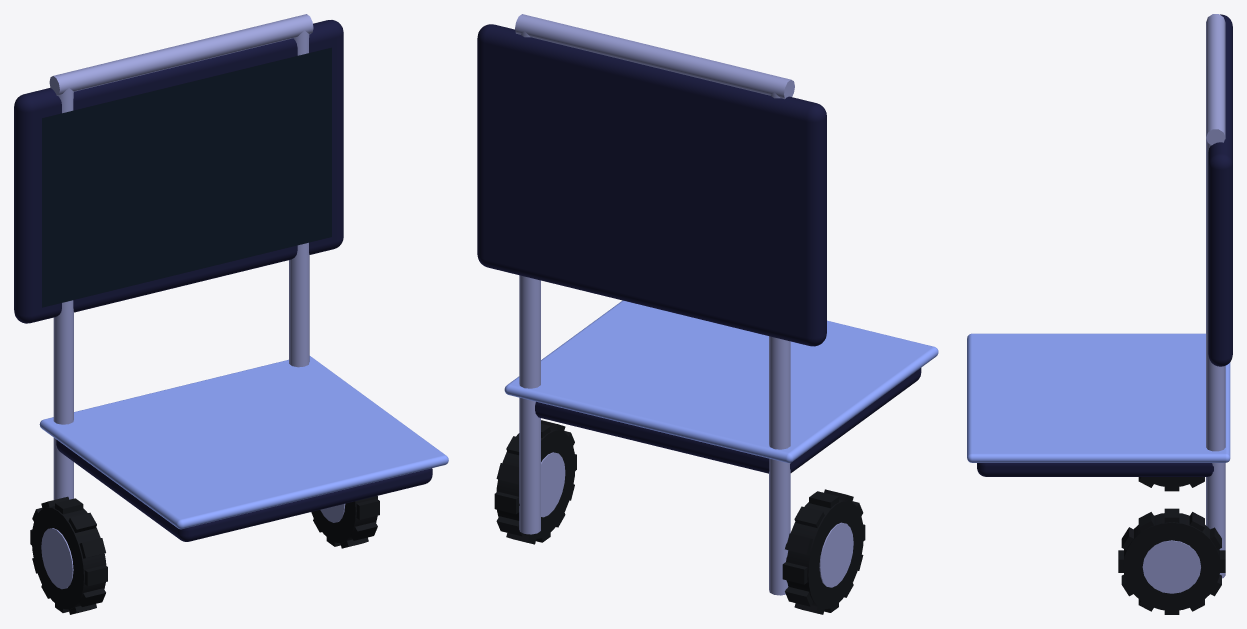
The model's file is poolCaddy.glb.
3 renders of one model, left to right at view 1: azimuth 30°, elevation 25°; view 2: azimuth 150°, elevation 25°; view 3: azimuth 270°, elevation 25°, orthographic. The views are drawn at different scales.
Parts seen in each view (by area): view 1: plates, cradleTrim, plateFrame, poolCaddy, wheel1, cradle, wheel0; view 2: plateFrame, cradleTrim, poolCaddy, wheel1, wheel0, cradle; view 3: cradleTrim, wheel0, plateFrame, poolCaddy, cradle, wheel1.
Part boxes in pixels (left/top/right/bottom): plates: left=42, top=47, right=331, bottom=307; cradleTrim: left=39, top=356, right=448, bottom=529; plateFrame: left=14, top=20, right=343, bottom=323; poolCaddy: left=49, top=14, right=313, bottom=499; wheel1: left=30, top=496, right=107, bottom=614; cradle: left=56, top=439, right=432, bottom=541; wheel0: left=311, top=496, right=379, bottom=548; plateFrame: left=477, top=24, right=826, bottom=346; cradleTrim: left=504, top=300, right=938, bottom=463; poolCaddy: left=515, top=14, right=794, bottom=595; wheel1: left=782, top=489, right=865, bottom=614; wheel0: left=494, top=420, right=576, bottom=544; cradle: left=535, top=368, right=921, bottom=473; cradleTrim: left=967, top=333, right=1230, bottom=462; wheel0: left=1118, top=508, right=1225, bottom=614; plateFrame: left=1208, top=14, right=1232, bottom=366; poolCaddy: left=1206, top=14, right=1225, bottom=578; cradle: left=977, top=463, right=1213, bottom=476; wheel1: left=1138, top=477, right=1204, bottom=491.
Bounding box in the file's own units: 0.72 × 1.08 × 0.545.
